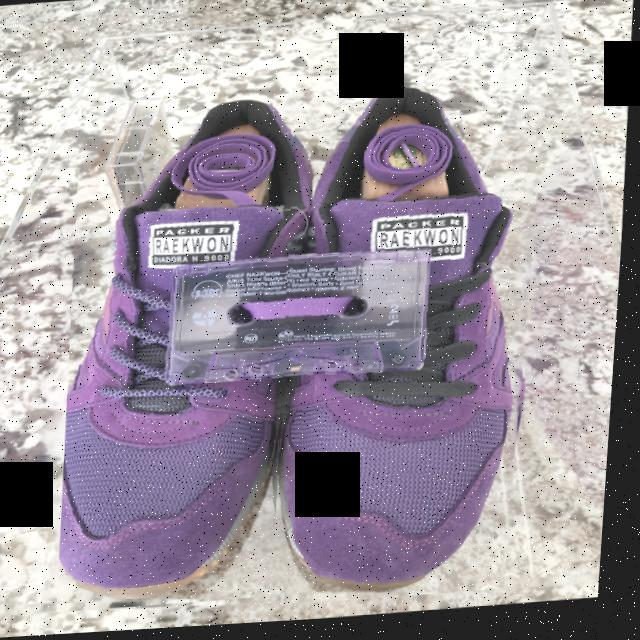shoe: (270, 73, 558, 610), (56, 83, 335, 614)
